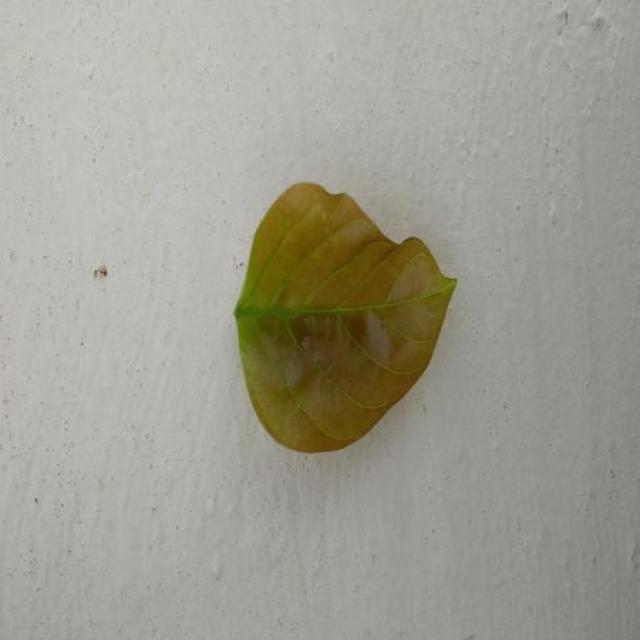honge: (235, 184, 455, 452)
